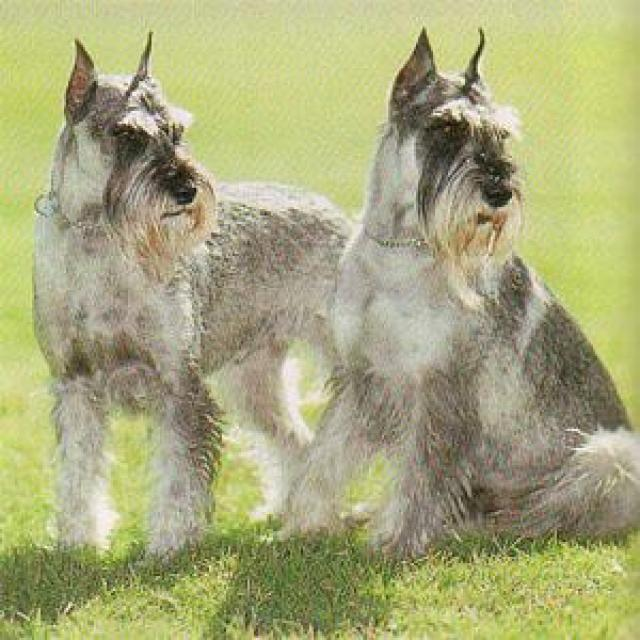standard_schnauzer: (281, 9, 638, 563), (26, 30, 360, 569)
